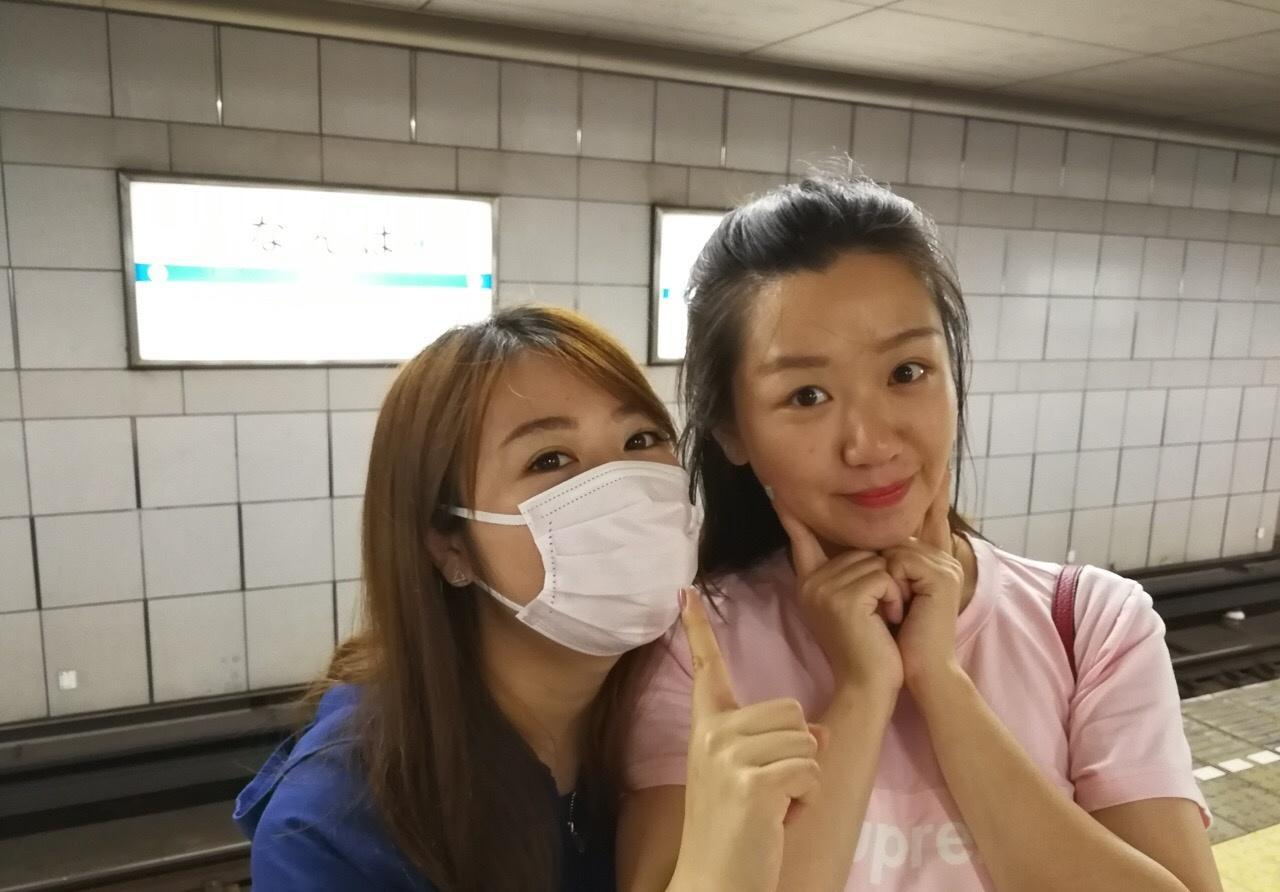NONE: (737, 317, 950, 545)
OK: (450, 392, 718, 660)
